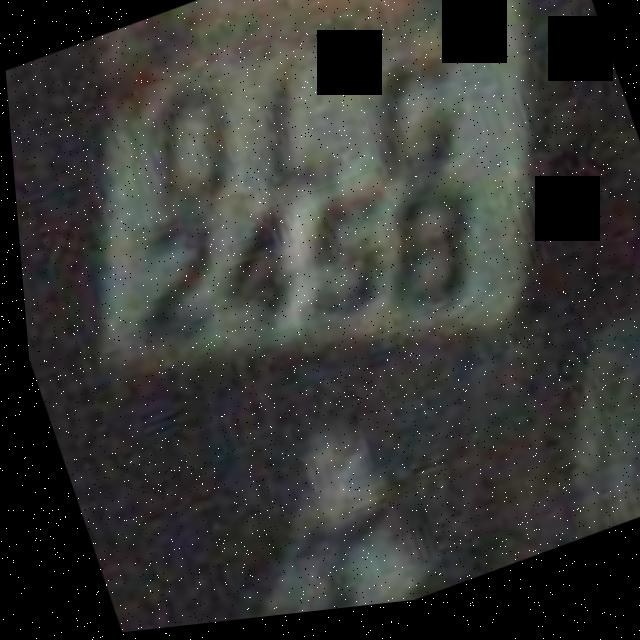2: (88, 199, 237, 359)
4: (169, 172, 324, 355)
5: (246, 157, 413, 341)
8: (346, 165, 512, 337)
J: (201, 37, 382, 222), (335, 42, 488, 207)
O: (101, 64, 255, 232)
